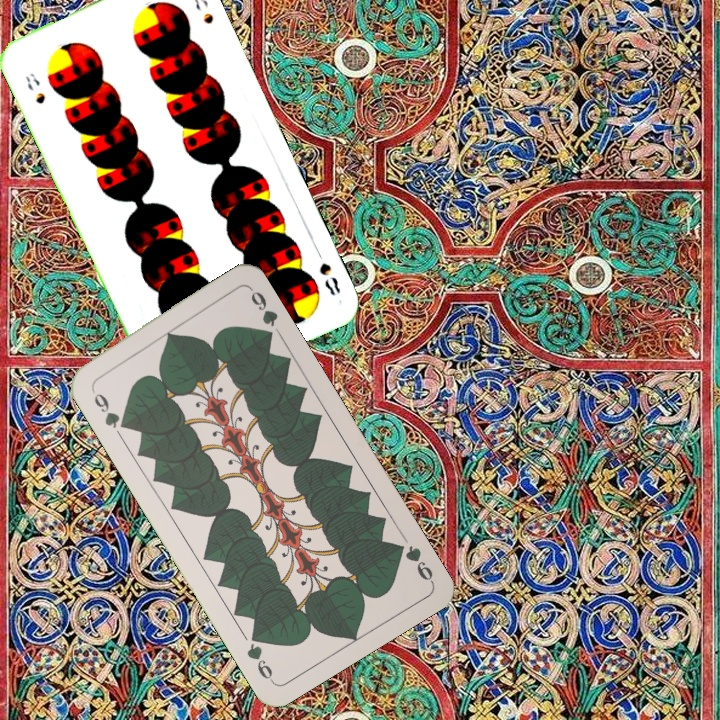G9: (389, 539, 436, 585), (87, 383, 131, 432)
S8: (311, 244, 343, 298), (21, 69, 48, 107)
